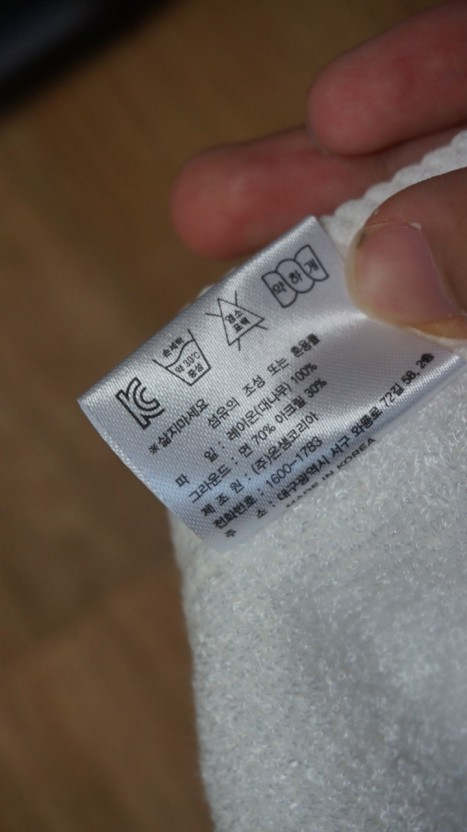KR_gentle_wring: (250, 230, 343, 320)
KR_hand_wash_30_neutral: (145, 317, 222, 397)
KR_no_chlorine_bleach: (192, 281, 279, 363)
